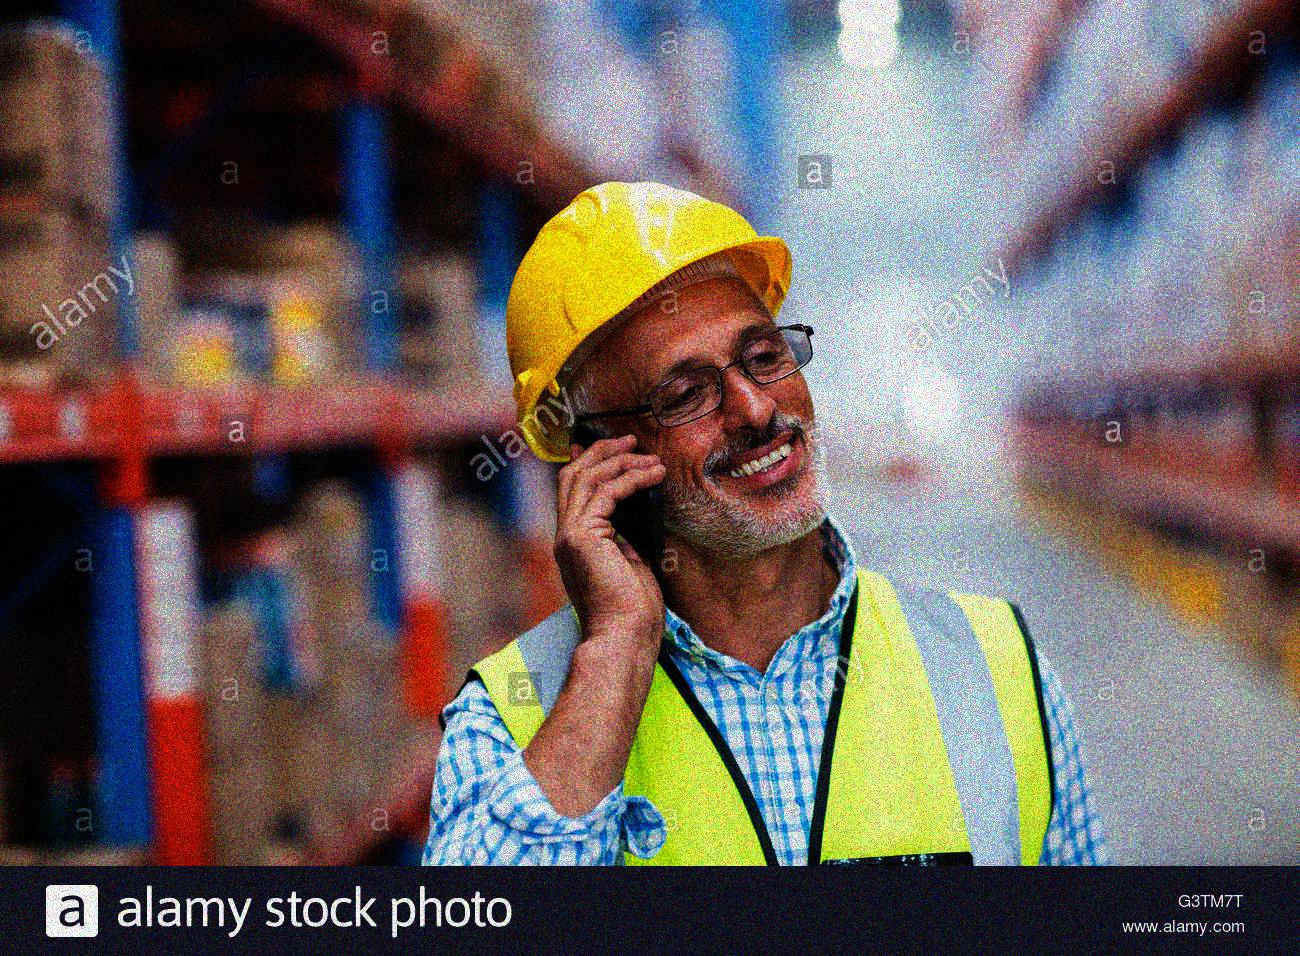helmet: (498, 171, 836, 550)
